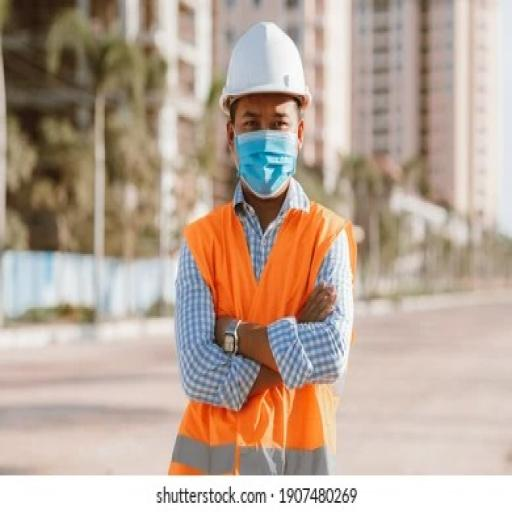mask: (234, 127, 302, 200)
